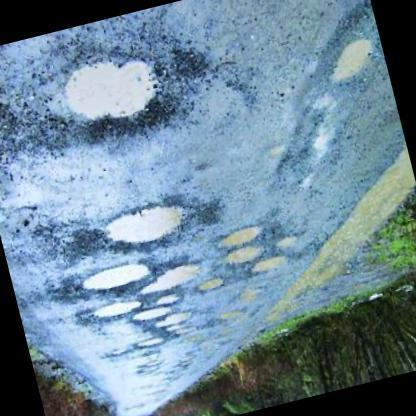pothole: (58, 53, 174, 144), (100, 198, 198, 247), (214, 216, 274, 268), (326, 30, 374, 90), (73, 260, 151, 296), (247, 232, 301, 280), (142, 262, 206, 296), (130, 304, 190, 336), (83, 298, 143, 326), (134, 336, 166, 352), (198, 276, 226, 294)
